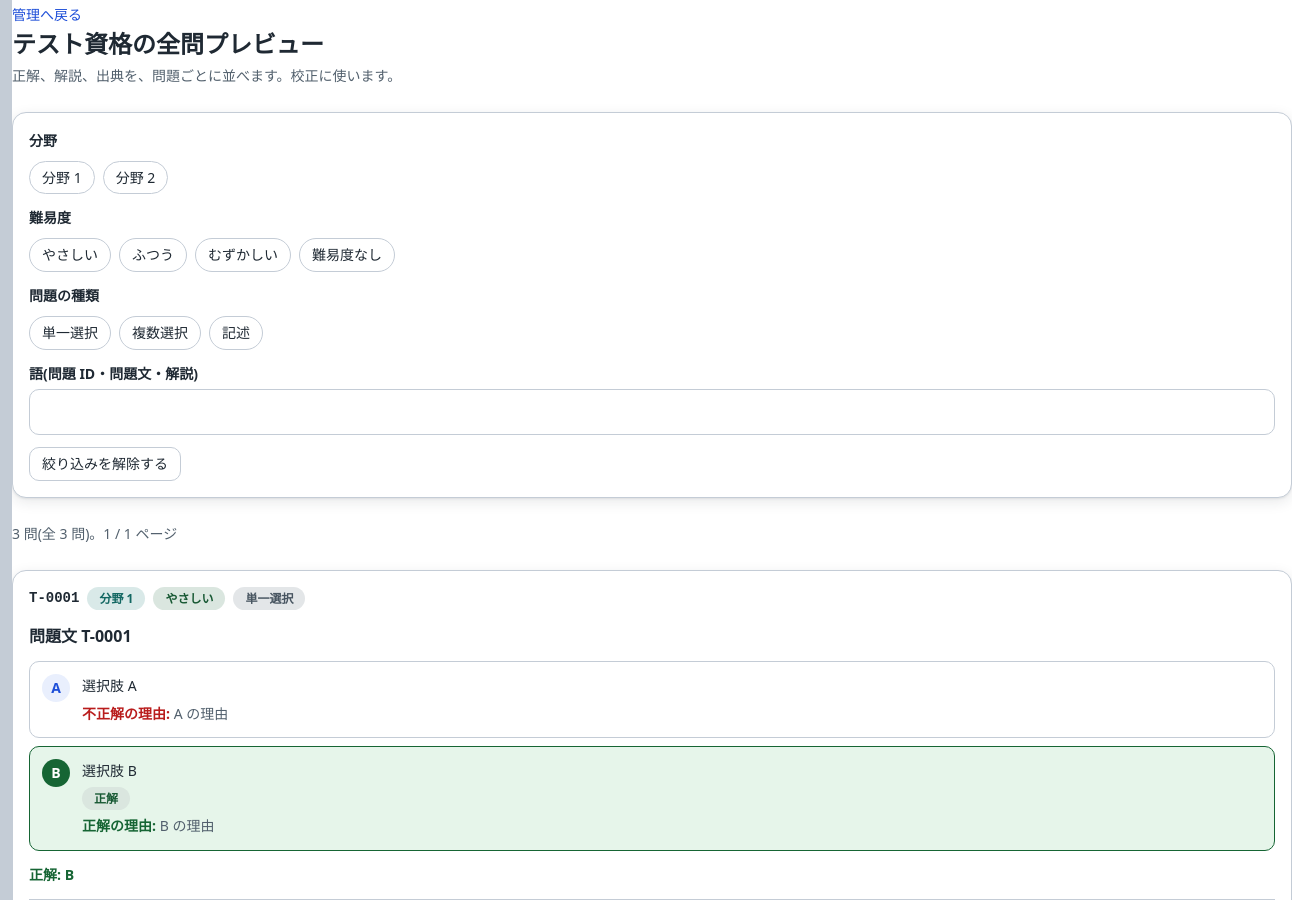
QuestionPreview › 難易度・種類・語で絞り込む
This screenshot has width=1292, height=900.
Step 1. Click the button "むずかしい" → [243, 255], box [195,238,291,272]
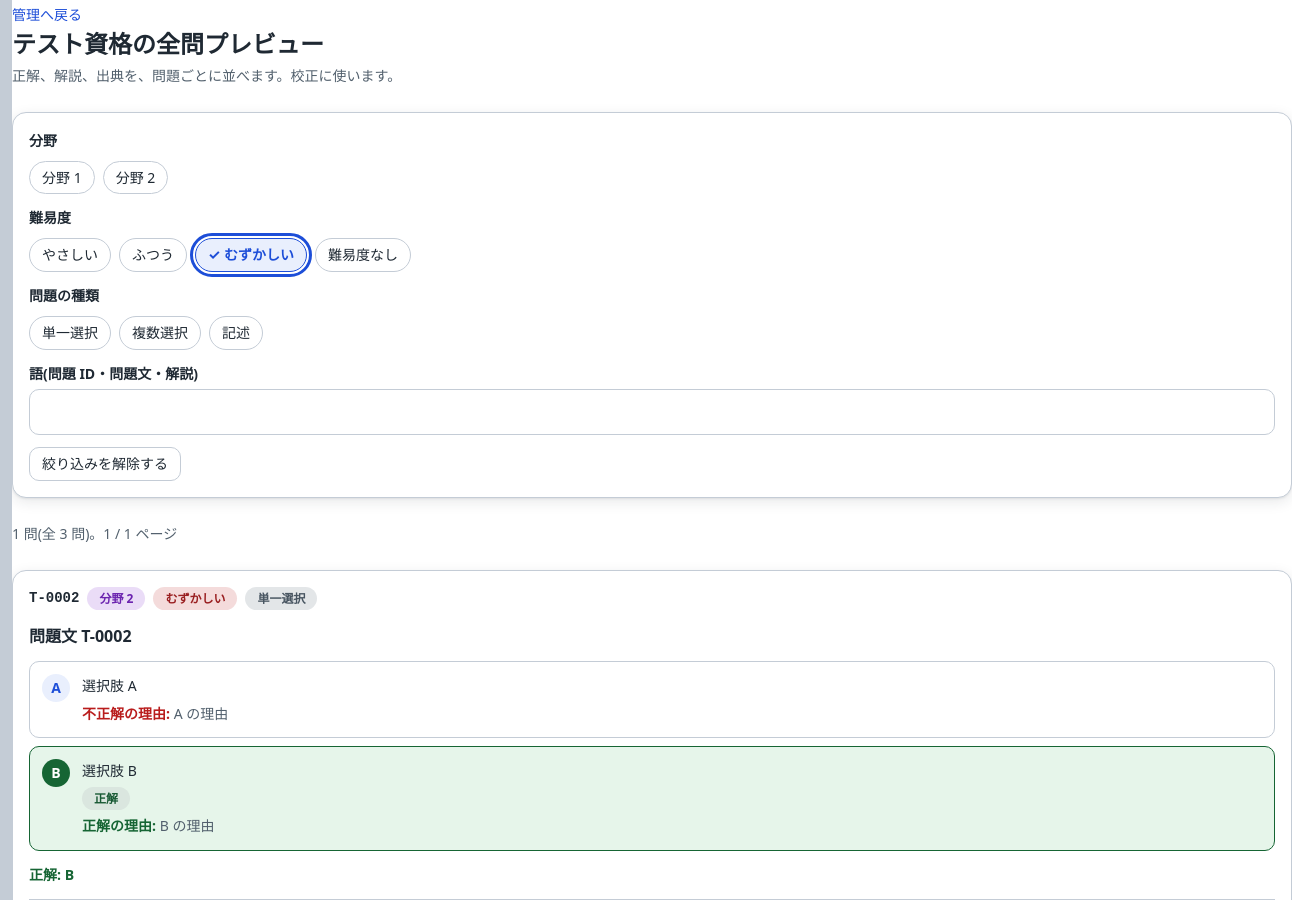
Result: the text "1 問(全 3 問)。1 / 1 ページ" is shown at [12,524,177,543]
Step 2. Click the button "絞り込みを解除する" → [105, 464], box [29,447,181,481]
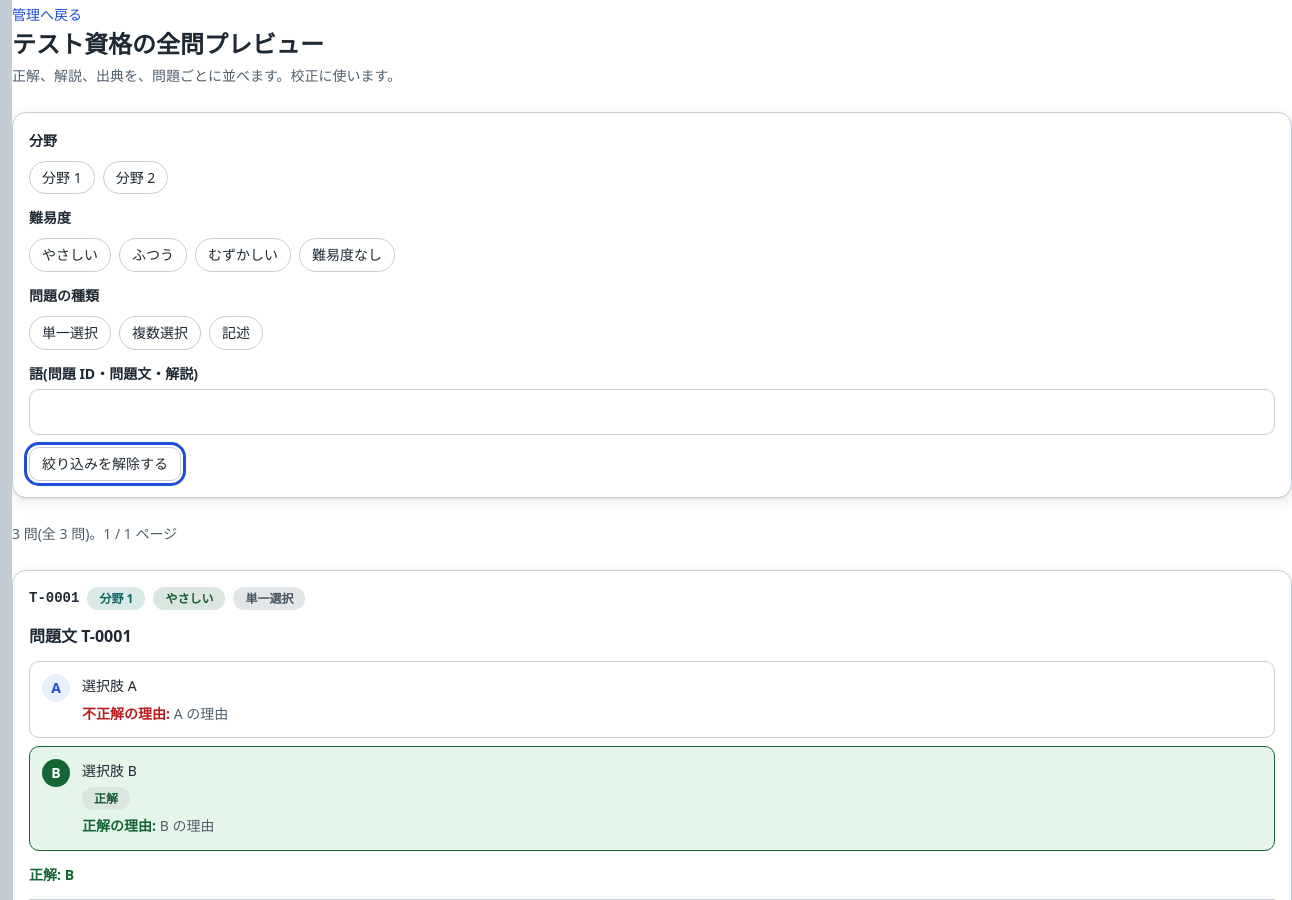
Step 3. Click the button "記述" → [236, 333], box [209,316,263,350]
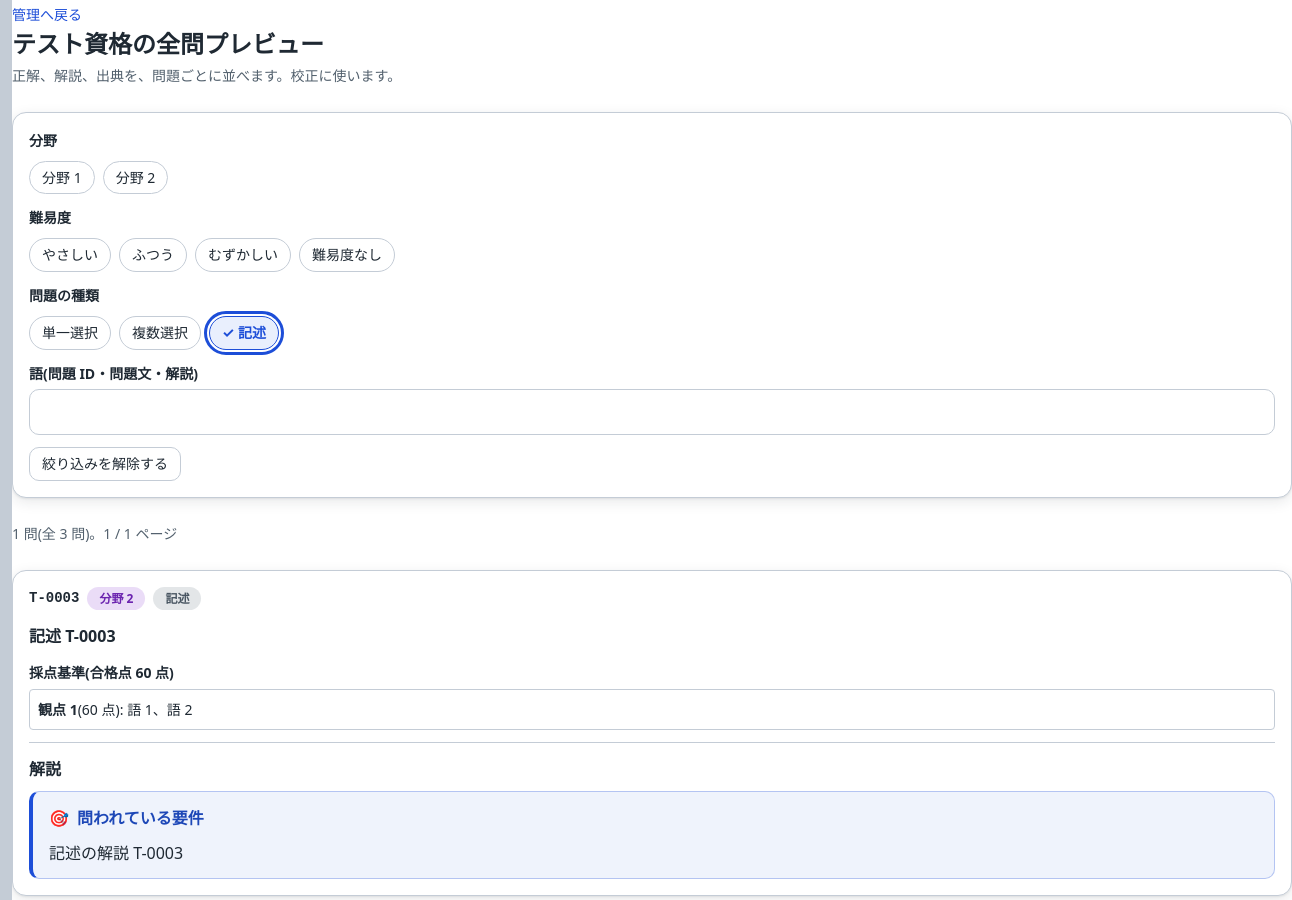
Result: the text "記述 T-0003" is shown at [29,625,116,647]
Result: the text "問題文 T-0001" is gone
Step 4. Click the button "絞り込みを解除する" → [105, 464], box [29,447,181,481]
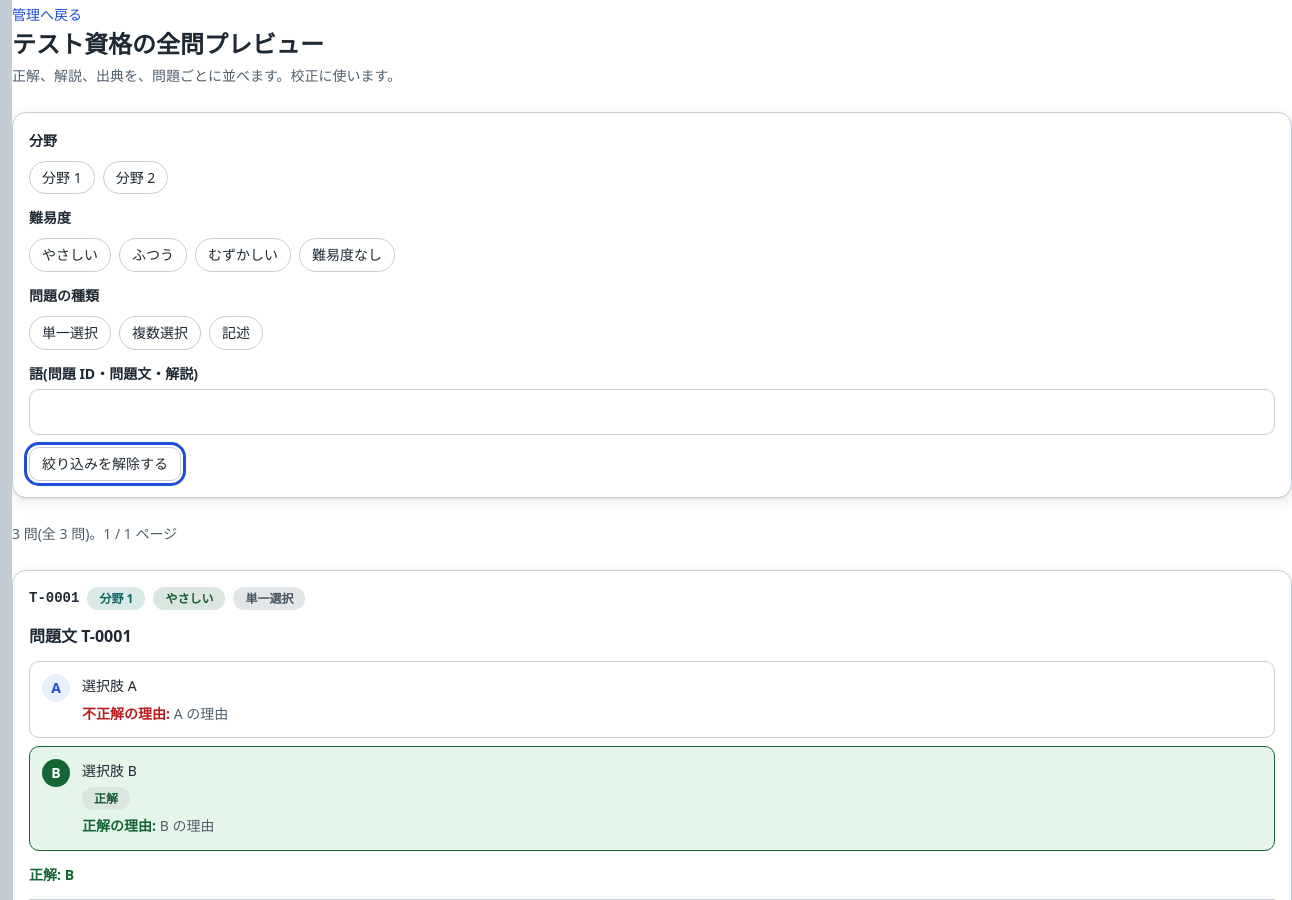
Step 5. Type "t-0002" into the search field labelled "語(問題 ID・問題文・解説)" → [652, 412], box [29,389,1275,435]
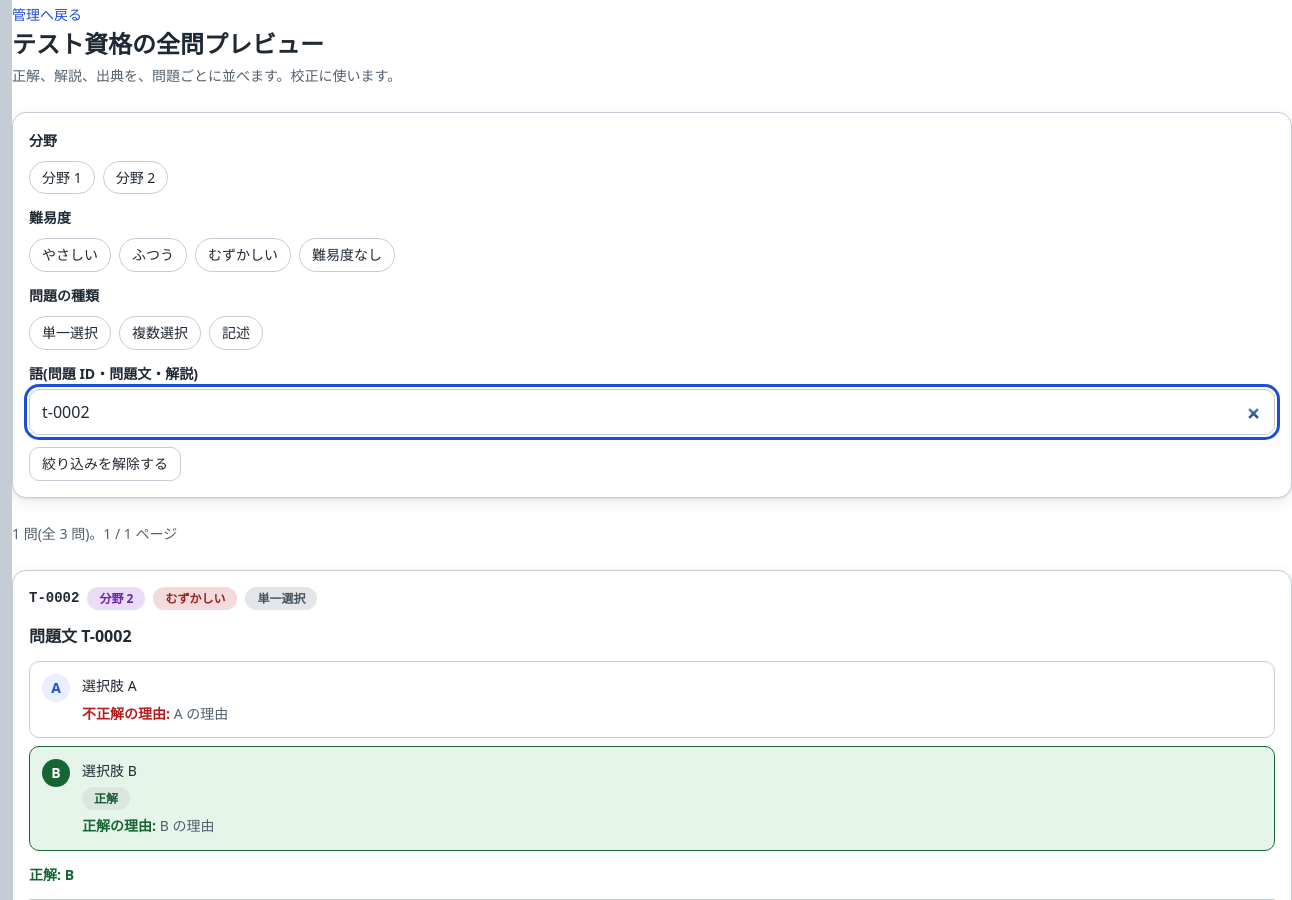
Result: the text "問題文 T-0002" is shown at [29,625,132,647]
Result: the text "1 問(全 3 問)。1 / 1 ページ" is shown at [12,524,177,543]
